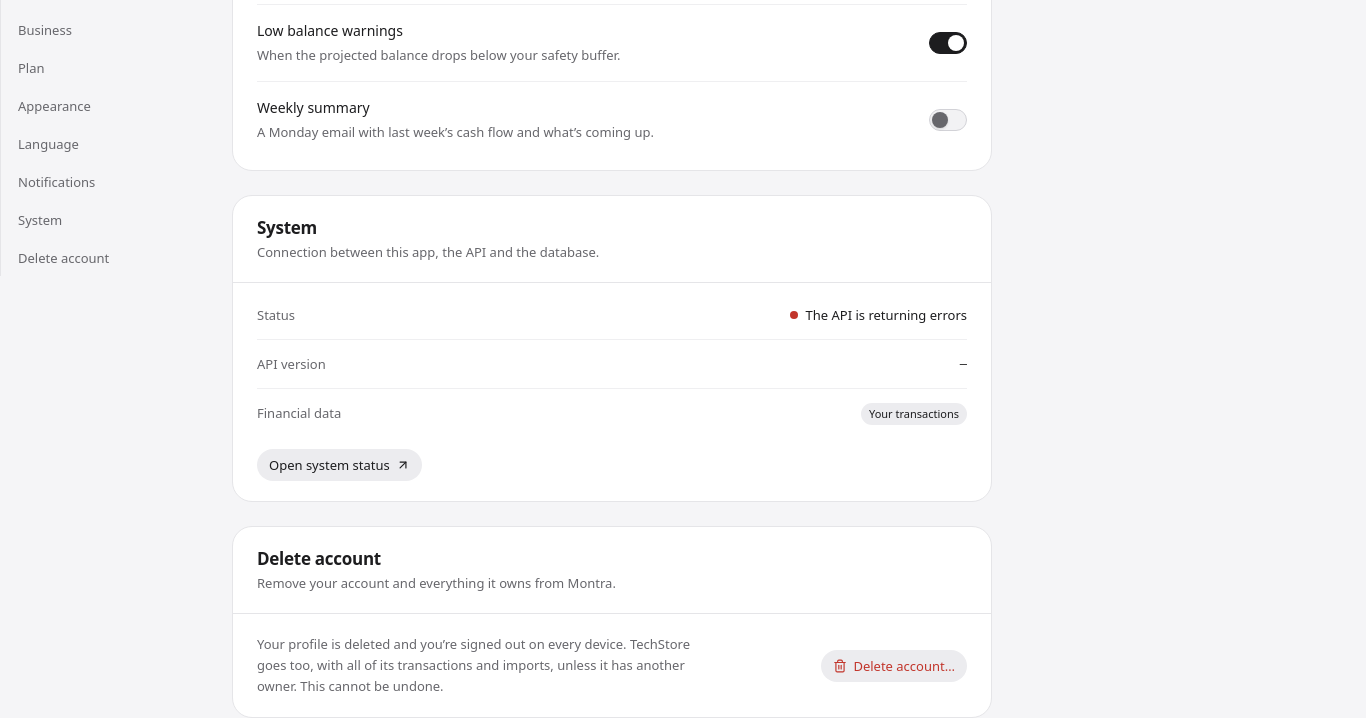
it: deleting the account › says what goes with it, including the business the user owns
This screenshot has width=1366, height=718.
(page scrolled)
Click the button "Delete account…" at coordinates (894, 666), box [821,650,967,682]
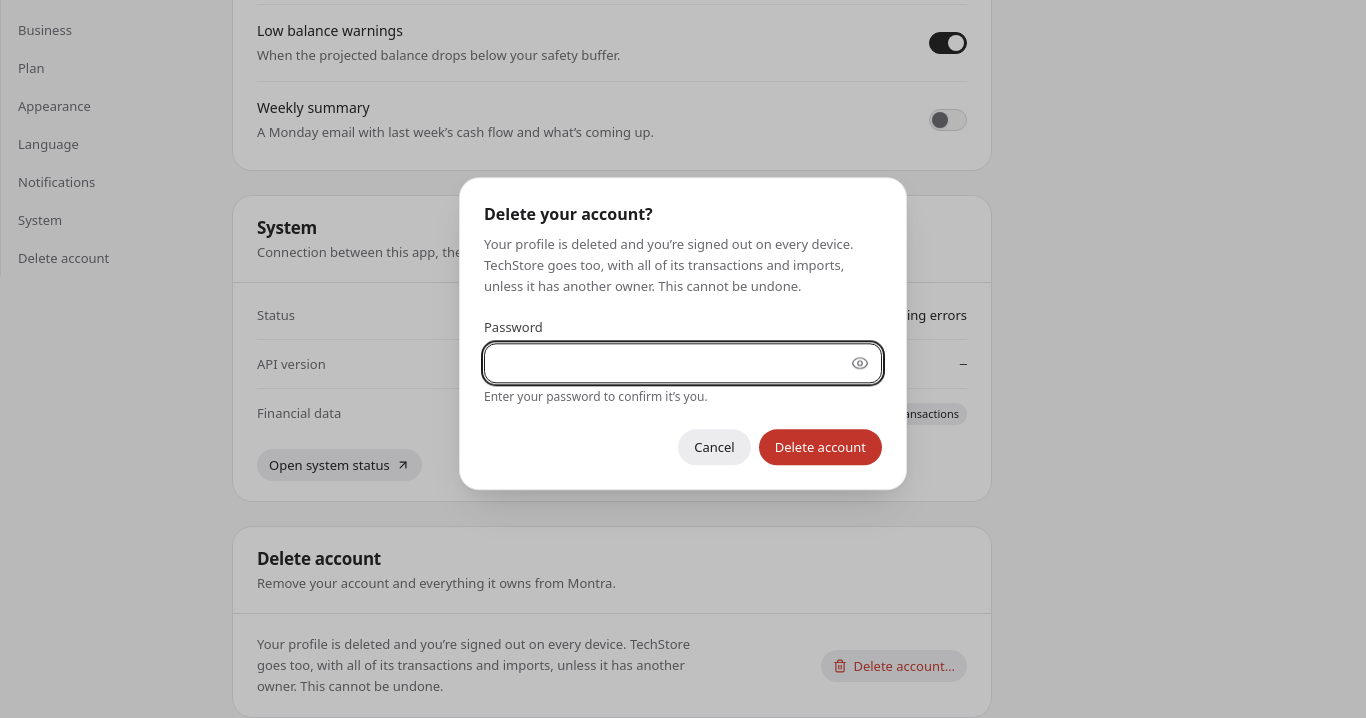
Now the dialog "Delete your account?" shows "TechStore goes too, with all of its transactions", box [484,235,854,296]
Now the dialog "Delete your account?" shows "This cannot be undone.", box [658,278,802,296]
